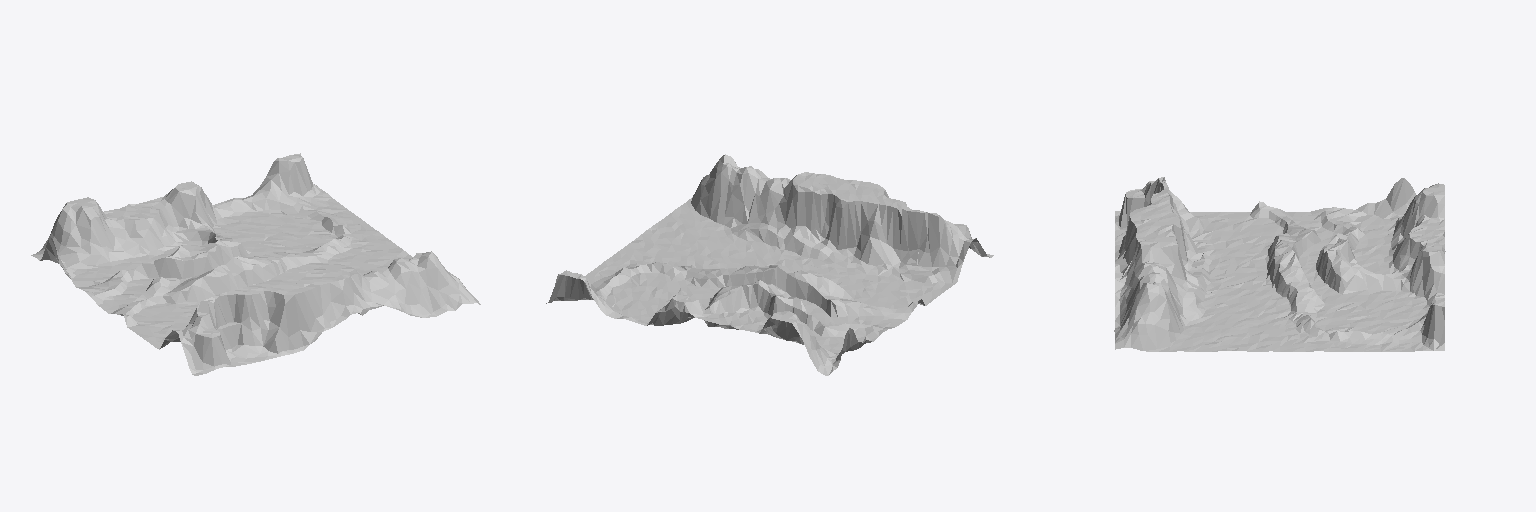
Rendered from TigerDen.obj.
3 renders of one model, left to right at view 1: azimuth 30°, elevation 25°; view 2: azimuth 150°, elevation 25°; view 3: azimuth 270°, elevation 25°, orthographic.
Visible parts, largest first — view 1: 1.005; view 2: 1.005; view 3: 1.005.
Boxes of the visible parts, x1=… form: 1.005: x1=31, y1=153, x2=480, y2=375; 1.005: x1=546, y1=154, x2=993, y2=375; 1.005: x1=1114, y1=177, x2=1445, y2=351.
Size of the model in its own units: 100 by 17.69 by 100.